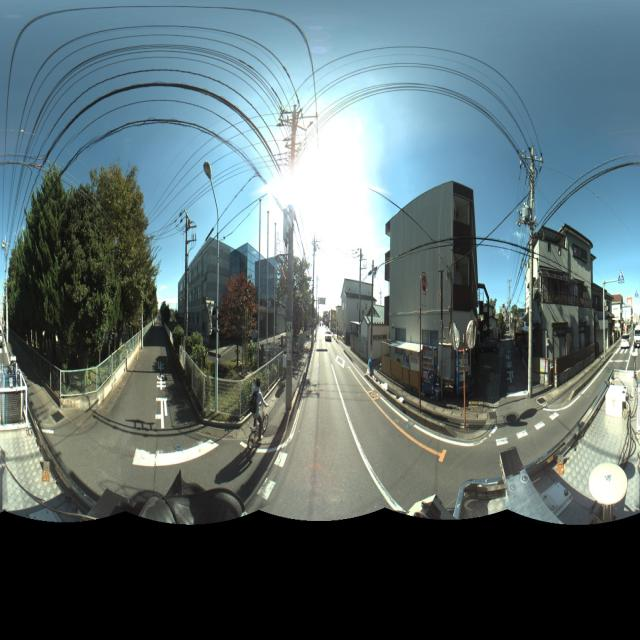b_1: (384, 174, 474, 382), (526, 224, 595, 388), (172, 241, 234, 343), (336, 273, 383, 357)
